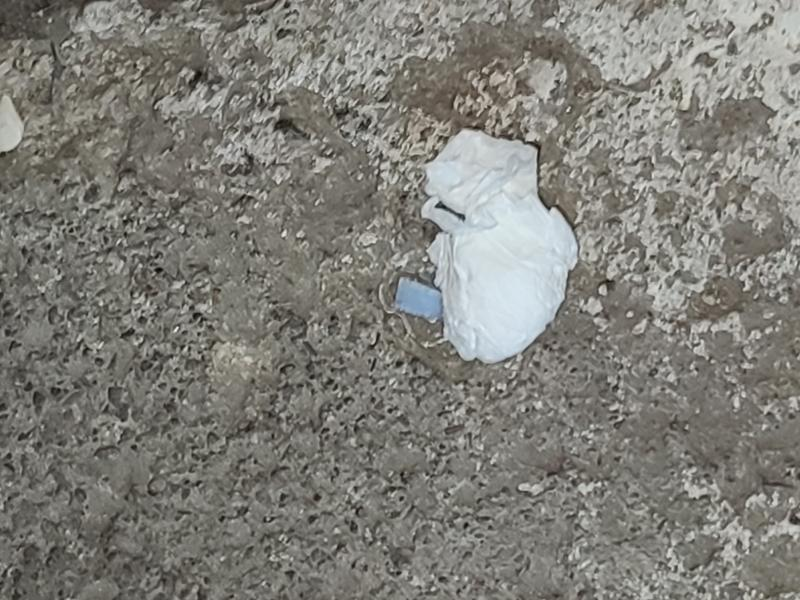papel: (397, 130, 579, 366)
